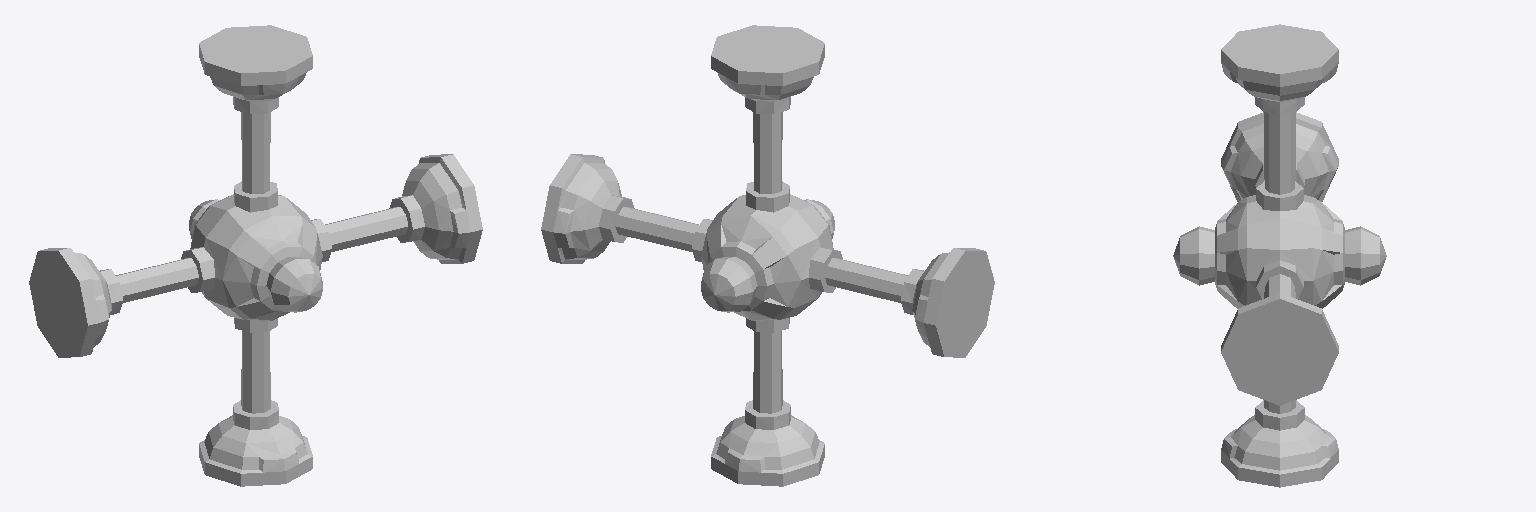
Rendered from Blast Raster.obj.
The picture shows the model from 3 angles: view 1: azimuth 30°, elevation 25°; view 2: azimuth 150°, elevation 25°; view 3: azimuth 270°, elevation 25°; orthographic projection.
Parts seen in each view (by area): view 1: EM082_Mesh; view 2: EM082_Mesh; view 3: EM082_Mesh.
Part boxes in pixels (bbox=[...]): EM082_Mesh: bbox=[29, 25, 482, 486]; EM082_Mesh: bbox=[541, 25, 994, 486]; EM082_Mesh: bbox=[1173, 24, 1386, 487].
Bounding box in the file's own units: 1.83 × 1.83 × 0.8576.